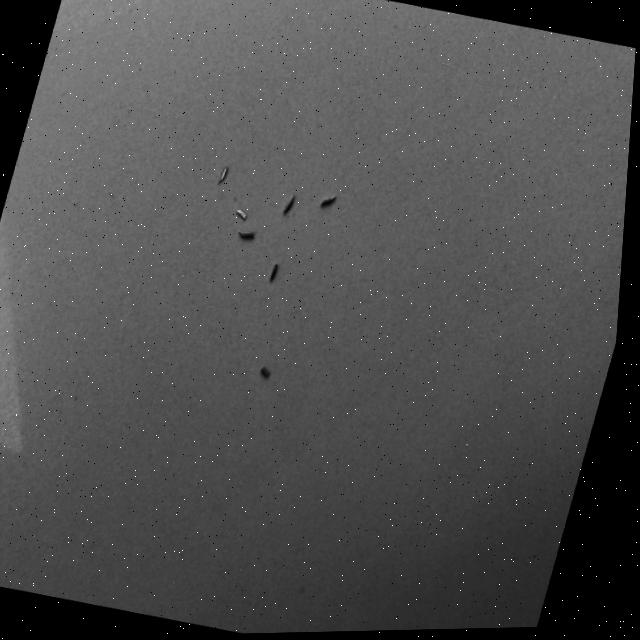Wereng: (262, 254, 287, 291), (231, 225, 263, 253), (209, 158, 236, 189), (249, 362, 278, 390), (315, 188, 340, 218), (279, 190, 302, 220), (227, 202, 254, 227)
